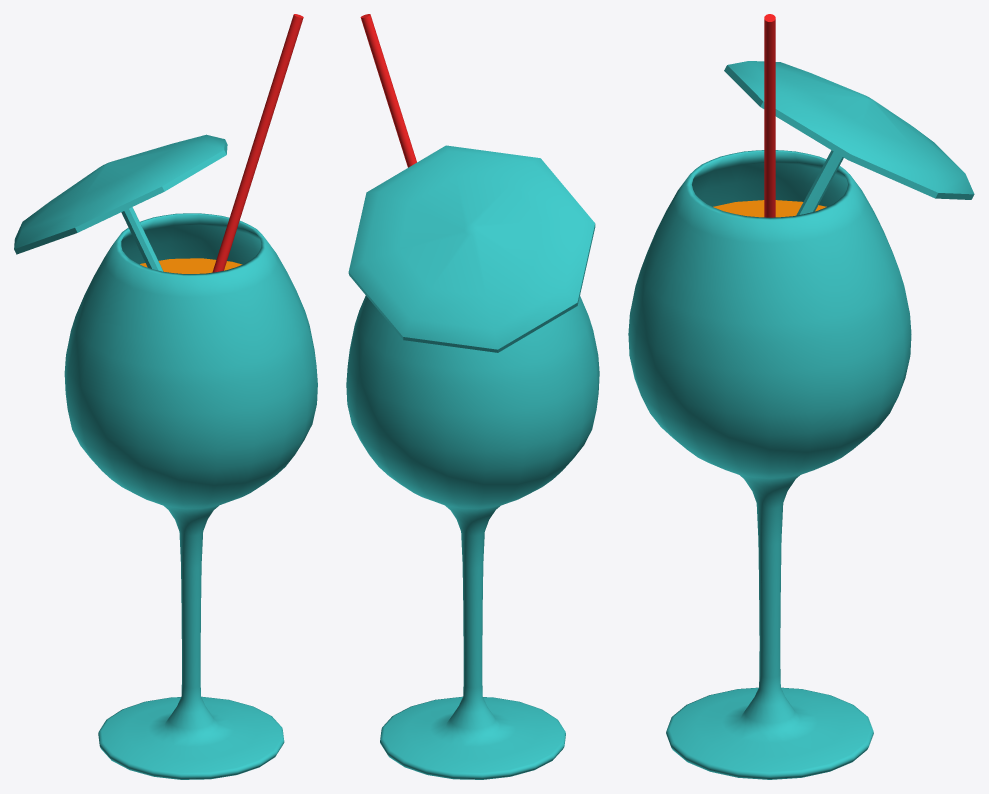
The model's file is fancyCup1.obj.
The picture shows the model from 3 angles, left to right: view 1: azimuth 30°, elevation 25°; view 2: azimuth 150°, elevation 25°; view 3: azimuth 270°, elevation 25°; orthographic projection. The views are drawn at different scales.
Visible parts, largest first — view 1: initialShadingGroup fancyCup1 cup, umbrella fancyCup1, fancyCup1 straw, initialShadingGroup fancyCup1 liquid; view 2: initialShadingGroup fancyCup1 cup, umbrella fancyCup1, fancyCup1 straw; view 3: initialShadingGroup fancyCup1 cup, umbrella fancyCup1, fancyCup1 straw, initialShadingGroup fancyCup1 liquid.
Part boxes in pixels (left/top/right/bottom): initialShadingGroup fancyCup1 cup: left=64, top=213, right=317, bottom=779; umbrella fancyCup1: left=14, top=134, right=227, bottom=271; fancyCup1 straw: left=212, top=14, right=303, bottom=272; initialShadingGroup fancyCup1 liquid: left=140, top=258, right=242, bottom=273; initialShadingGroup fancyCup1 cup: left=346, top=295, right=599, bottom=779; umbrella fancyCup1: left=348, top=145, right=595, bottom=352; fancyCup1 straw: left=360, top=14, right=416, bottom=167; initialShadingGroup fancyCup1 cup: left=628, top=150, right=911, bottom=779; umbrella fancyCup1: left=724, top=61, right=974, bottom=215; fancyCup1 straw: left=764, top=14, right=775, bottom=217; initialShadingGroup fancyCup1 liquid: left=713, top=200, right=826, bottom=217.
Bounding box in the file's own units: 2.36 × 6.26 × 2.52.
